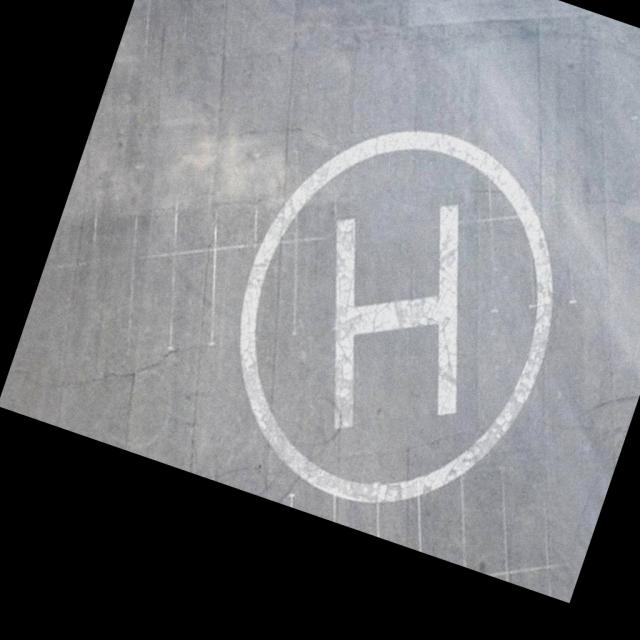helipad: (233, 120, 558, 510)
